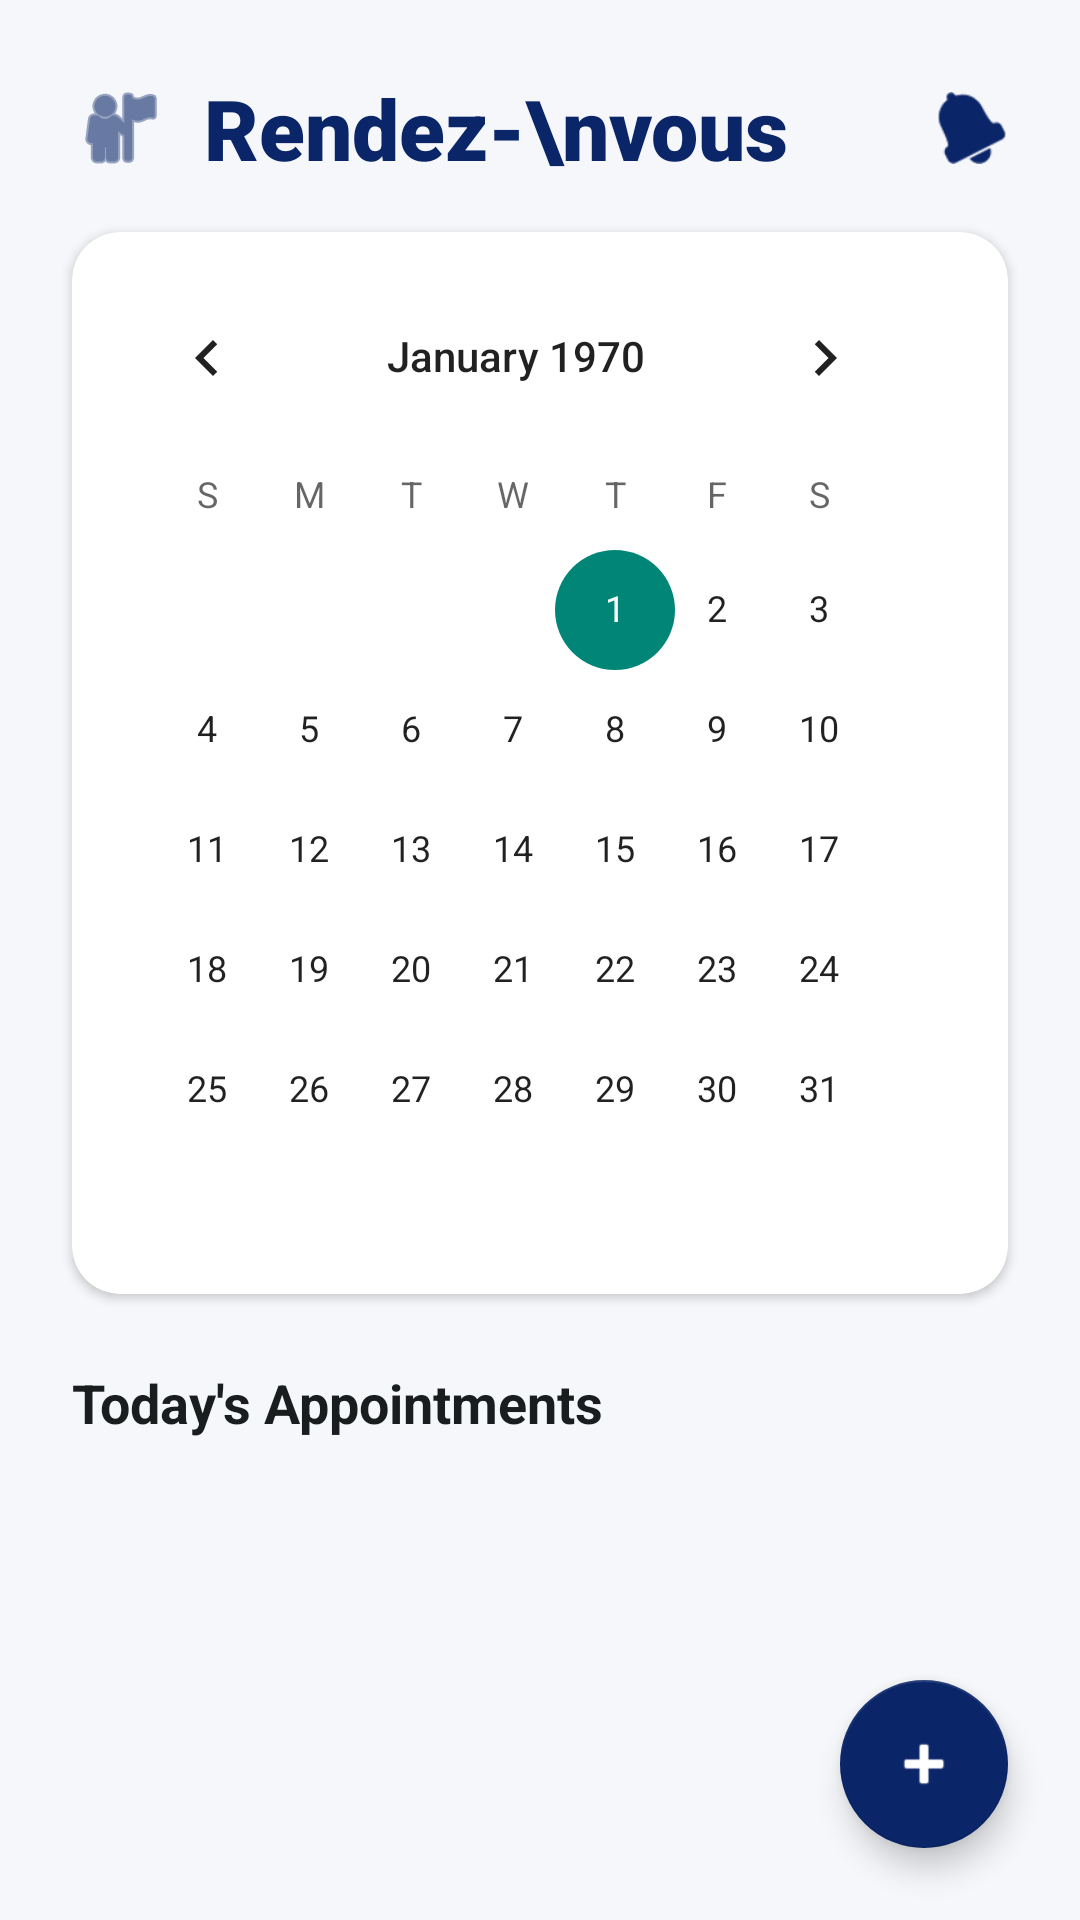

Where to tap for icons on this 1080×1920 app screen, as (x=x, y=y):
add: (x=924, y=1764)
myplaces: (x=121, y=128)
popup reminder: (x=972, y=128)
